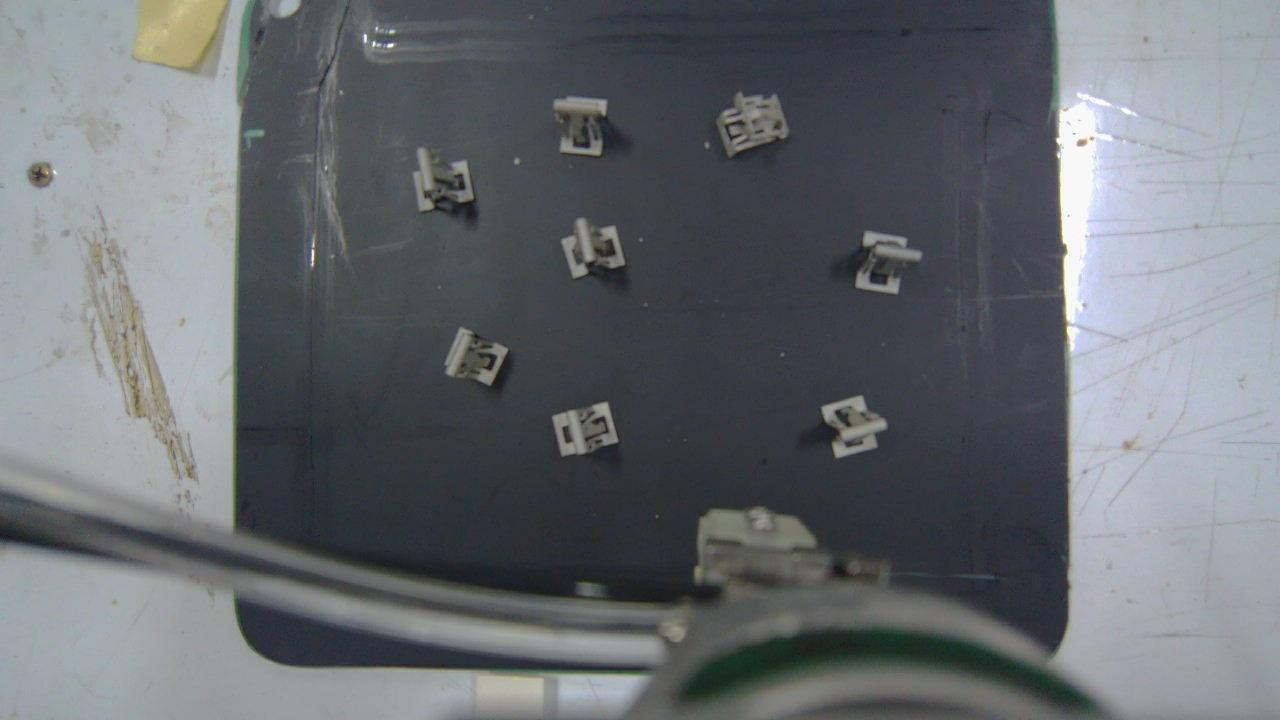ng: (716, 93, 788, 156), (856, 230, 921, 293), (412, 150, 473, 212), (445, 327, 507, 386), (555, 95, 608, 157)
pass: (560, 218, 626, 280), (824, 394, 887, 457), (554, 402, 619, 459)
